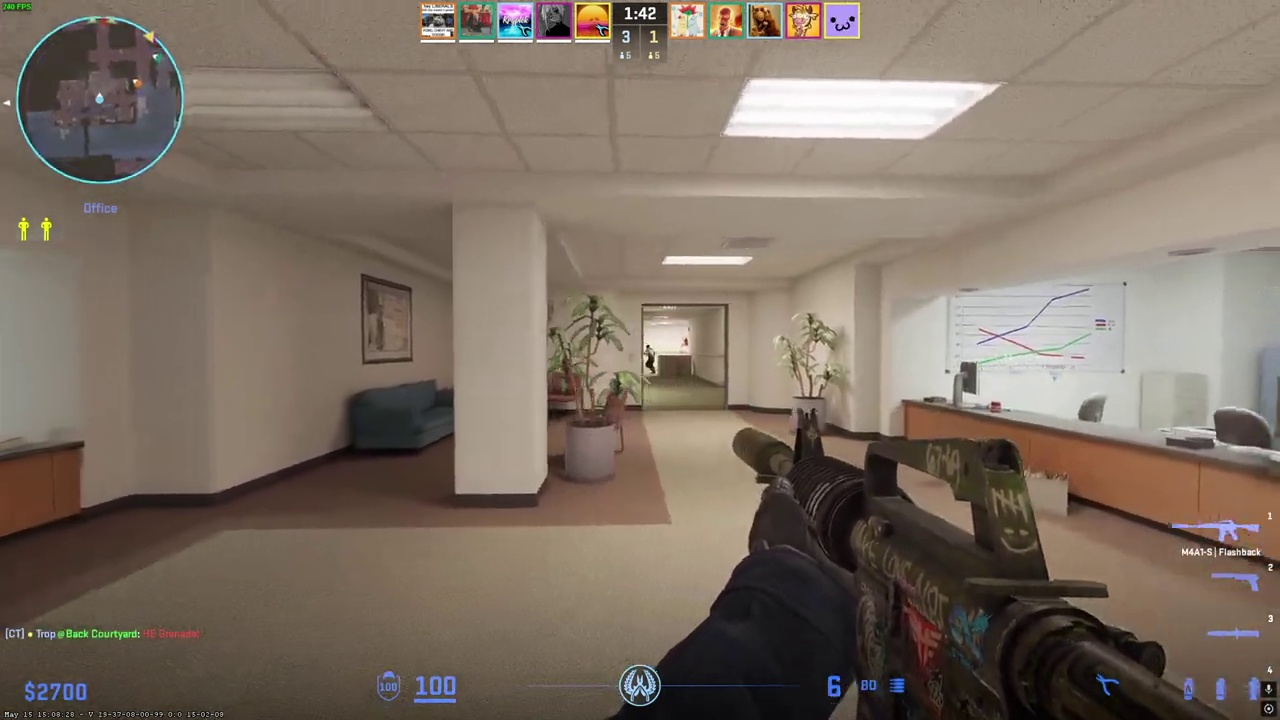Terrorist: (644, 343, 656, 375)
